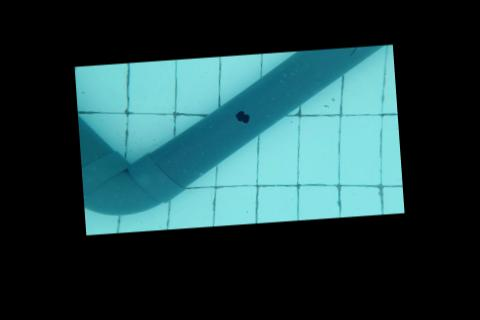kebocoran: (233, 111, 250, 126)
keretakan: (346, 47, 359, 58)
